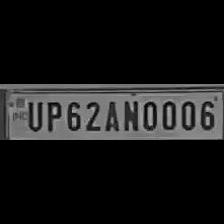0: (138, 98, 158, 132), (158, 97, 178, 131), (177, 97, 195, 130)
2: (82, 98, 102, 132)
6: (63, 98, 81, 132), (197, 98, 215, 132)
A: (101, 97, 119, 132)
N: (119, 97, 138, 133)
P: (43, 98, 62, 132)
U: (24, 98, 42, 132)
